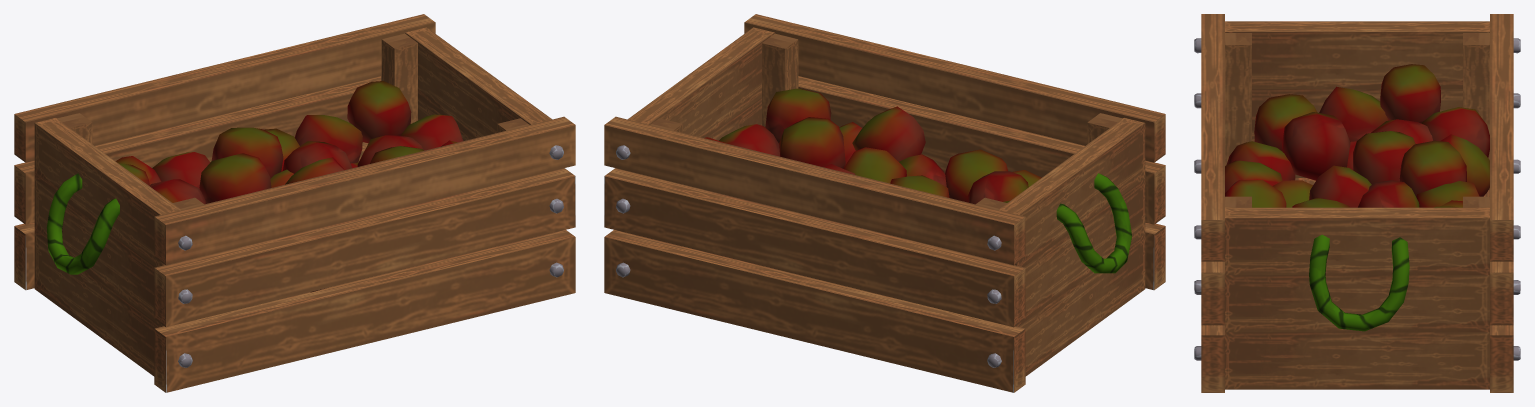
Rendered from FarmCrate_Apple.gltf.
3 renders of one model, left to right at view 1: azimuth 30°, elevation 25°; view 2: azimuth 150°, elevation 25°; view 3: azimuth 270°, elevation 25°, orthographic. The views are drawn at different scales.
Visible parts, largest first — view 1: FarmCrate_Apple; view 2: FarmCrate_Apple; view 3: FarmCrate_Apple.
Boxes of the visible parts, x1,y1,x2,y2 form: FarmCrate_Apple: (14, 14, 575, 392); FarmCrate_Apple: (604, 14, 1165, 392); FarmCrate_Apple: (1194, 14, 1520, 392).
Size of the model in its own units: 0.7138 by 0.2438 by 0.4142.
Materials: 3 (3 with a texture image).
